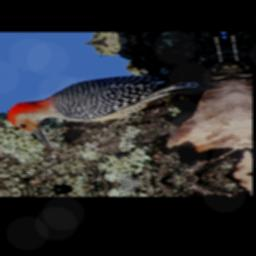Woodpecker: (0, 67, 230, 148)
